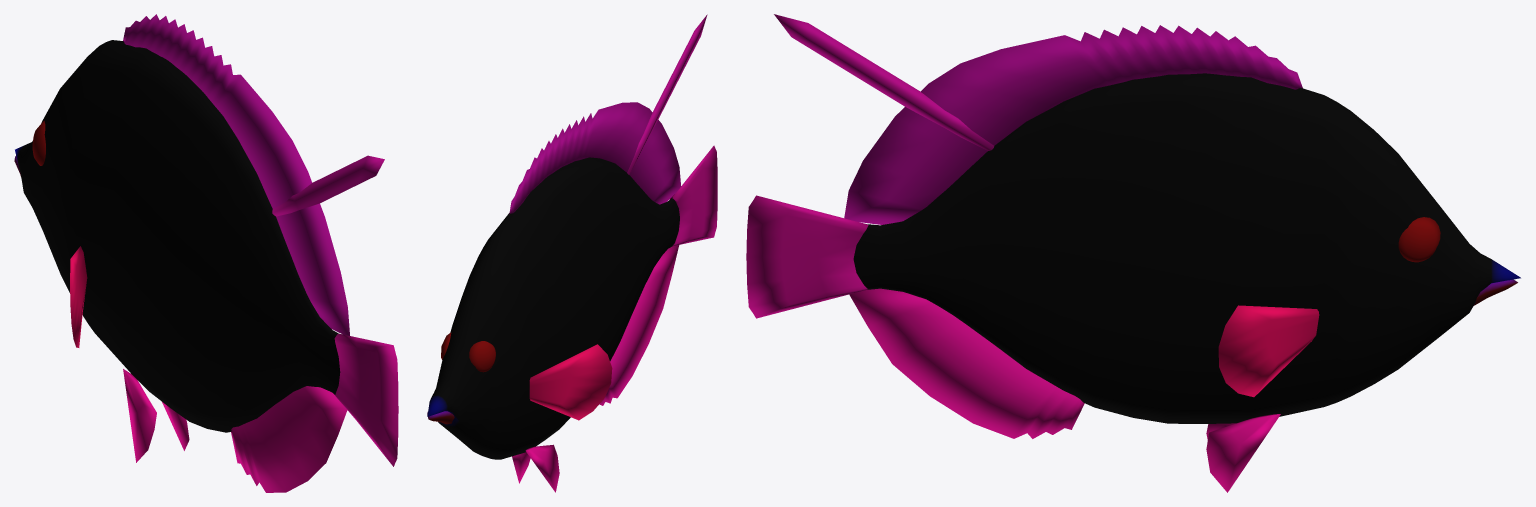
The model's file is butterflyfish_threadfin_game.glb.
3 renders of one model, left to right at view 1: azimuth 30°, elevation 25°; view 2: azimuth 150°, elevation 25°; view 3: azimuth 270°, elevation 25°, orthographic. The views are drawn at different scales.
Visible parts, largest first — view 1: butterflyfish_threadfin_game; view 2: butterflyfish_threadfin_game; view 3: butterflyfish_threadfin_game.
Part boxes in pixels (left/top/right/bottom): butterflyfish_threadfin_game: left=14, top=14, right=398, bottom=492; butterflyfish_threadfin_game: left=427, top=14, right=717, bottom=492; butterflyfish_threadfin_game: left=746, top=14, right=1520, bottom=492.
Size of the model in its own units: 0.0511 by 0.1197 by 0.18.
